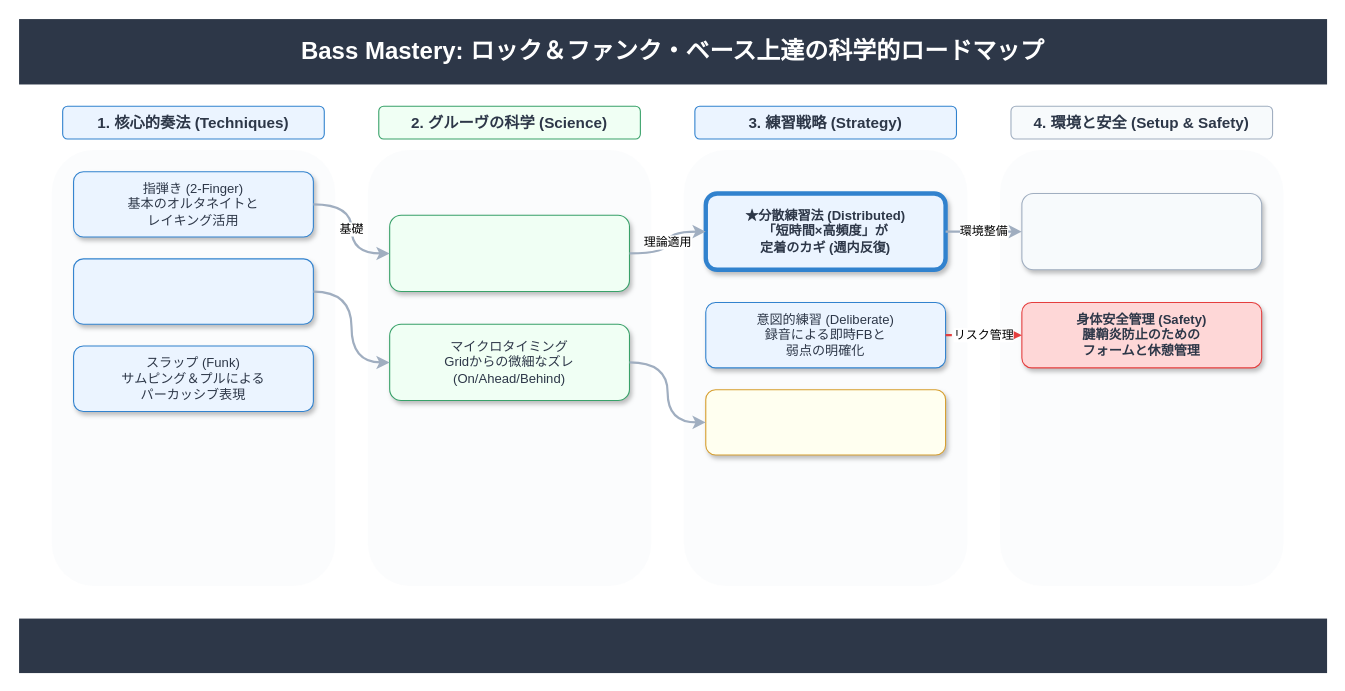
Some shapes in this 1345 by 691 pixel diagram are drawn without their labels. The centre of each missing label's shape, as x and y in pixels:
"ピック弾き (Rock) ダウンピッキングによる ドライブ感の創出" belongs at (x=194, y=292).
"弦高セッティング Rock: 低め (2.0-2.5mm) Funk: 高め (2.5-3.0mm)" belongs at (x=1142, y=232).
"感覚運動カップリング 脳(線条体)と身体運動の 神経同期メカニズム" belongs at (x=510, y=254).
"正確なタイム感 初心者は意図的ズレより ジャストを優先" belongs at (x=826, y=423).
"結論: 正確なタイム感を養い、短時間・高頻度の練習で定着させる (練習量は能力の30%のみを説明)" belongs at (x=673, y=645).
